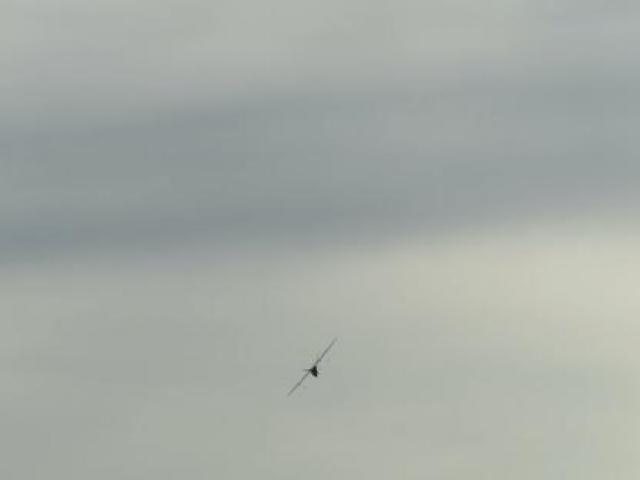uav: (282, 330, 344, 406)
